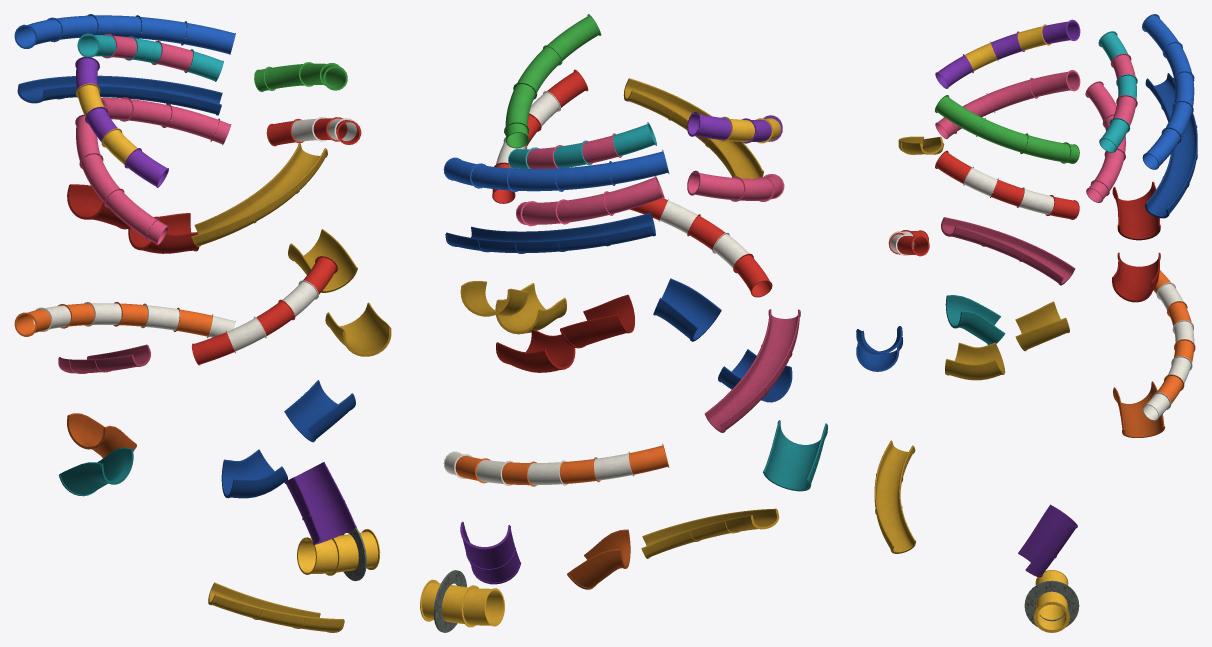
File: torre_scivoli.glb
The picture shows the model from 3 angles, left to right: view 1: azimuth 30°, elevation 25°; view 2: azimuth 150°, elevation 25°; view 3: azimuth 270°, elevation 25°; orthographic projection. The views are drawn at different scales.
Visible parts, largest first — view 1: torre_A_canali-col, torre_scivolo_12-col, torre_scivolo_6-col, torre_scivolo_9-col, torre_scivolo_11-col, discesa_5_0, torre_scivolo_10-col, torre_scivolo_2-col, torre_scivolo_5-col, torre_tubo_inseguimento, discesa_2_1, discesa_2_0 (+9 smaller); view 2: torre_A_canali-col, torre_scivolo_12-col, torre_scivolo_6-col, torre_scivolo_1-col, torre_scivolo_9-col, torre_scivolo_5-col, torre_scivolo_10-col, torre_tubo_inseguimento, discesa_3_0, discesa_2_0, discesa_0_0, torre_scivolo_7-col (+9 smaller); view 3: torre_A_canali-col, torre_scivolo_6-col, torre_scivolo_12-col, torre_scivolo_11-col, torre_scivolo_1-col, torre_scivolo_7-col, torre_scivolo_2-col, torre_scivolo_10-col, discesa_5_0, torre_scivolo_5-col, discesa_3_0, discesa_1_1 (+8 smaller).
Part boxes in pixels (left/top/right/bottom): torre_A_canali-col: left=17, top=75, right=344, bottom=632; torre_scivolo_12-col: left=14, top=302, right=235, bottom=338; torre_scivolo_6-col: left=14, top=14, right=235, bottom=54; torre_scivolo_9-col: left=191, top=256, right=337, bottom=365; torre_scivolo_11-col: left=75, top=56, right=168, bottom=187; discesa_5_0: left=284, top=462, right=356, bottom=544; torre_scivolo_10-col: left=77, top=33, right=223, bottom=81; torre_scivolo_2-col: left=75, top=114, right=168, bottom=245; torre_scivolo_5-col: left=100, top=97, right=231, bottom=145; torre_tubo_inseguimento: left=297, top=529, right=380, bottom=575; discesa_2_1: left=221, top=449, right=288, bottom=498; discesa_2_0: left=284, top=380, right=355, bottom=442; torre_A_canali-col: left=445, top=78, right=800, bottom=558; torre_scivolo_12-col: left=443, top=443, right=669, bottom=486; torre_scivolo_6-col: left=443, top=149, right=669, bottom=192; torre_scivolo_1-col: left=504, top=14, right=601, bottom=148; torre_scivolo_9-col: left=630, top=198, right=772, bottom=297; torre_scivolo_5-col: left=516, top=176, right=664, bottom=226; torre_scivolo_10-col: left=508, top=122, right=656, bottom=168; torre_tubo_inseguimento: left=420, top=579, right=504, bottom=627; discesa_3_0: left=763, top=420, right=827, bottom=491; discesa_2_0: left=653, top=278, right=721, bottom=341; discesa_0_0: left=560, top=294, right=634, bottom=348; torre_scivolo_7-col: left=492, top=69, right=588, bottom=203; torre_A_canali-col: left=874, top=73, right=1197, bottom=553; torre_scivolo_6-col: left=1142, top=14, right=1194, bottom=169; torre_scivolo_12-col: left=1142, top=269, right=1195, bottom=420; torre_scivolo_11-col: left=935, top=19, right=1080, bottom=88; torre_scivolo_1-col: left=935, top=95, right=1079, bottom=163; torre_scivolo_7-col: left=935, top=150, right=1079, bottom=219; torre_scivolo_2-col: left=935, top=70, right=1080, bottom=138; torre_scivolo_10-col: left=1098, top=31, right=1137, bottom=152; discesa_5_0: left=1018, top=504, right=1077, bottom=577; torre_scivolo_5-col: left=1085, top=81, right=1125, bottom=202; discesa_3_0: left=945, top=295, right=1005, bottom=344; discesa_1_1: left=945, top=342, right=1005, bottom=380.
Bounding box in the file's own units: 18.68 × 30.05 × 18.5.
11 materials, 11 textured.
